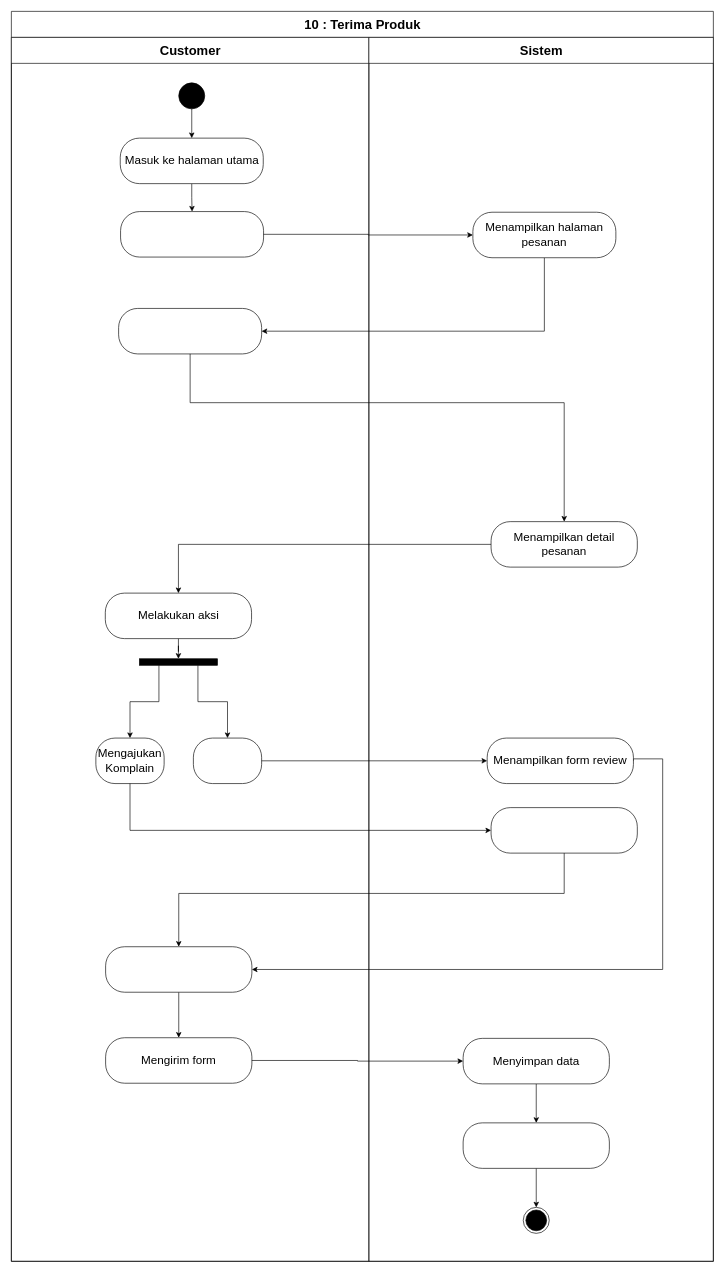
Image size: 725x1273. Some labels were removed from this diagram. The centre of each missing label's shape, as x and y in pixels:
Memberi Ulasan: (227,760)
Memilih menu pesanan: (192,234)
Memilih pesanan selesai: (190,331)
Menampilkan form komplain: (563,830)
Menampilkan halaman ulasan & komplain: (535,1145)
Mengisi form: (178,969)
